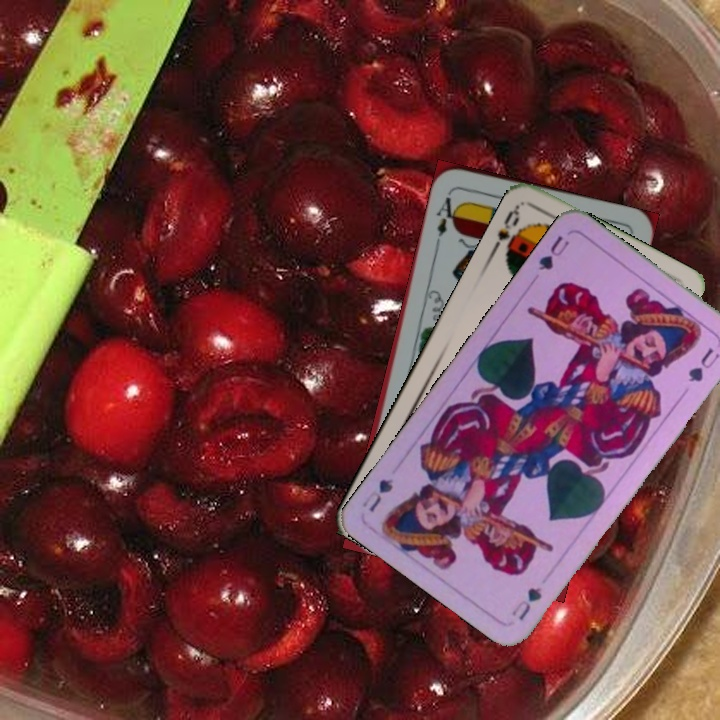EA: (432, 187, 462, 246)
GU: (534, 231, 573, 273), (507, 583, 545, 623)
SO: (486, 203, 527, 263)
